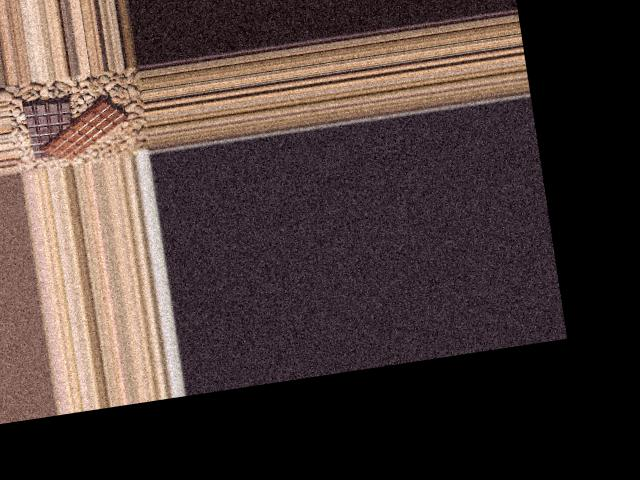chocolate: (15, 92, 78, 164)
